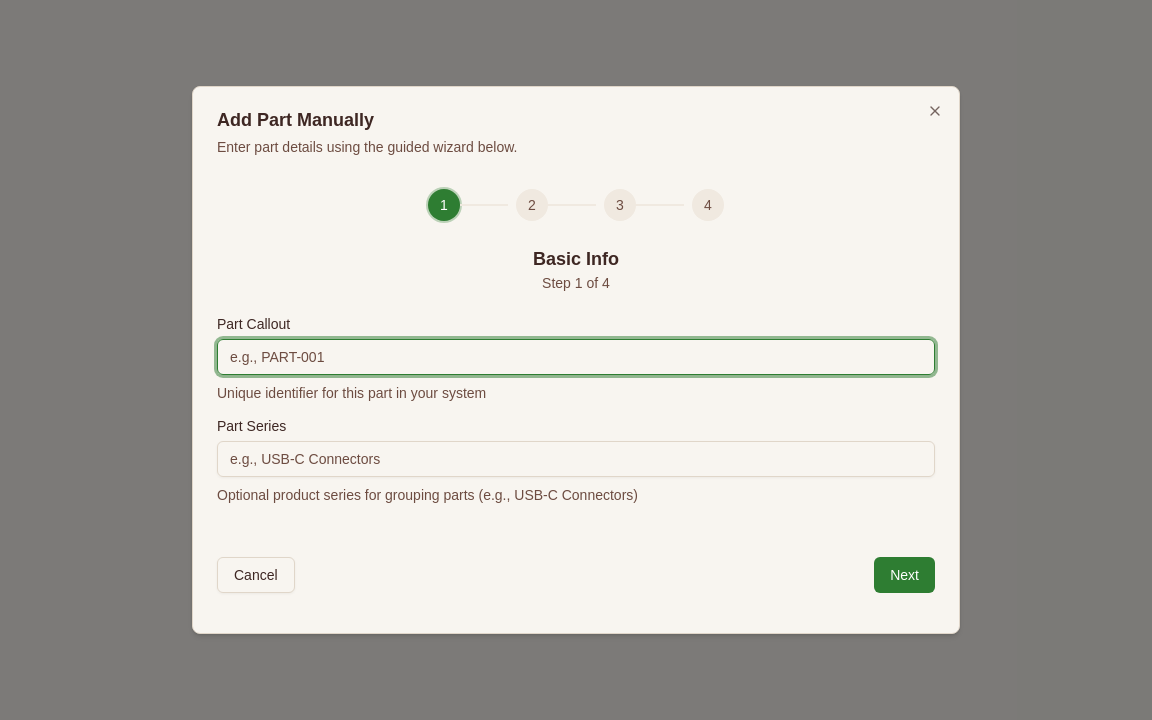
it: PartManualEntryModal › navigation › Back button navigates to previous step
In the field labelled "Part Callout": (576, 357) x1=217 y1=339 x2=935 y2=375, type "TEST"
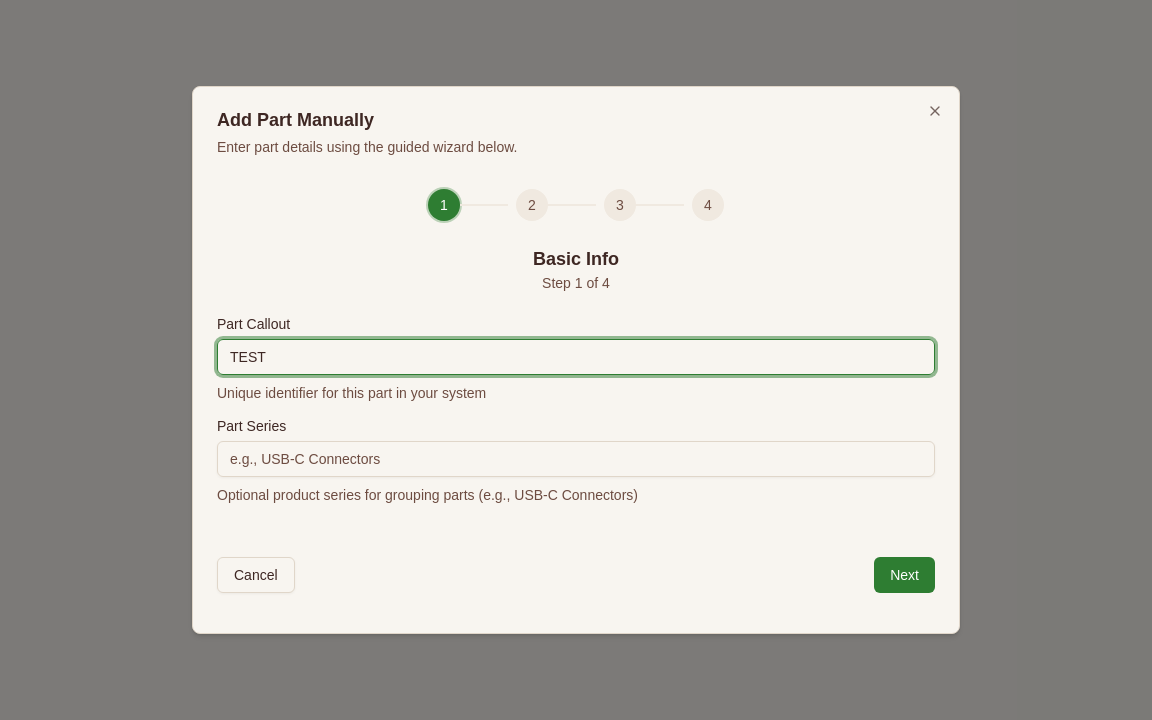
Click the button "Next": (905, 575) x1=874 y1=557 x2=935 y2=593
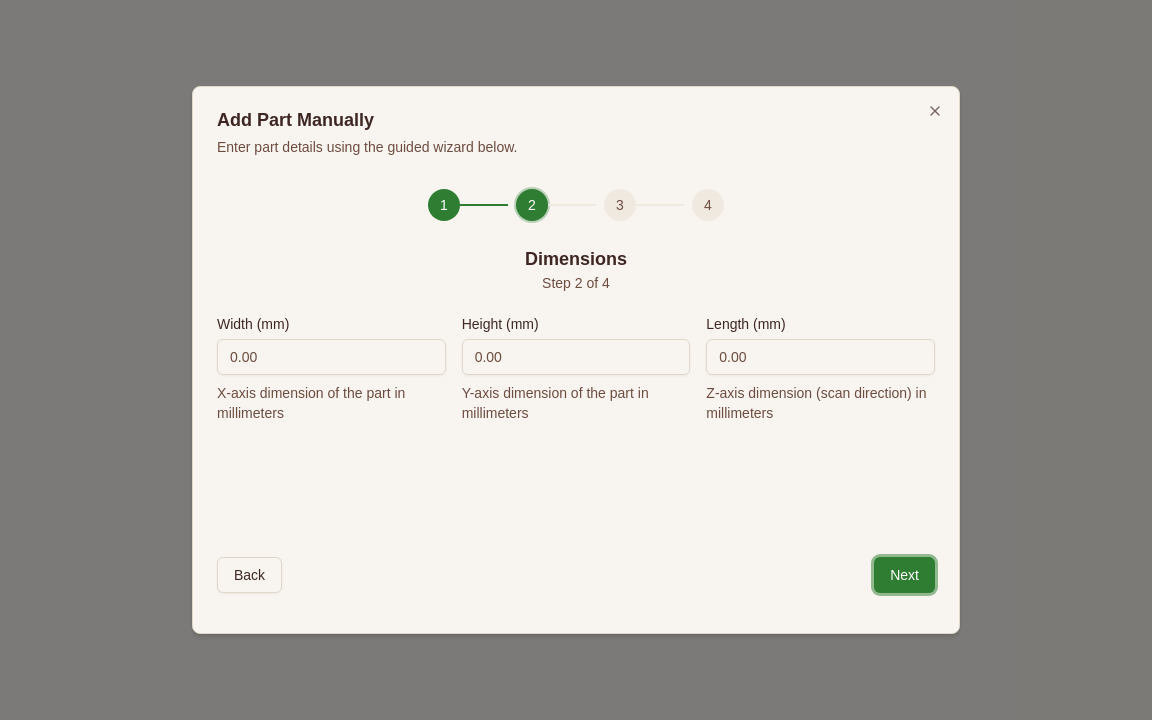
Now the text "Step 2 of 4" is shown, box x1=542 y1=275 x2=610 y2=291
Click the button "Back": (250, 575) x1=217 y1=557 x2=282 y2=593
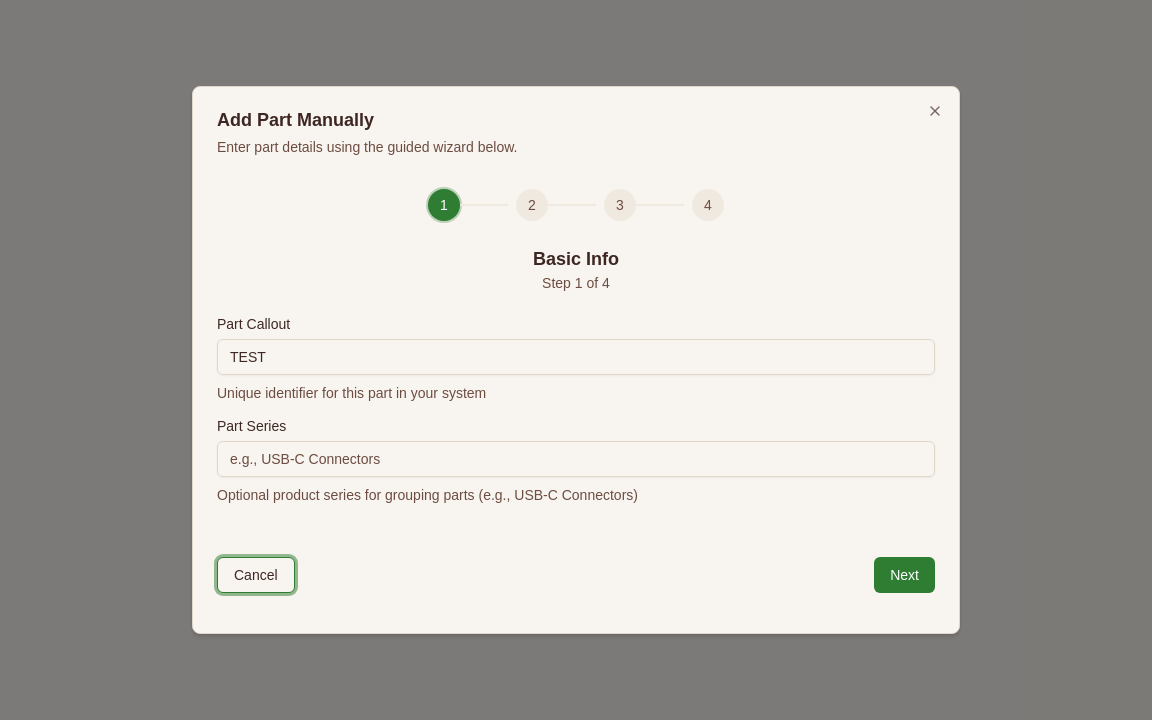
Now the text "Step 1 of 4" is shown, box x1=542 y1=275 x2=610 y2=291
